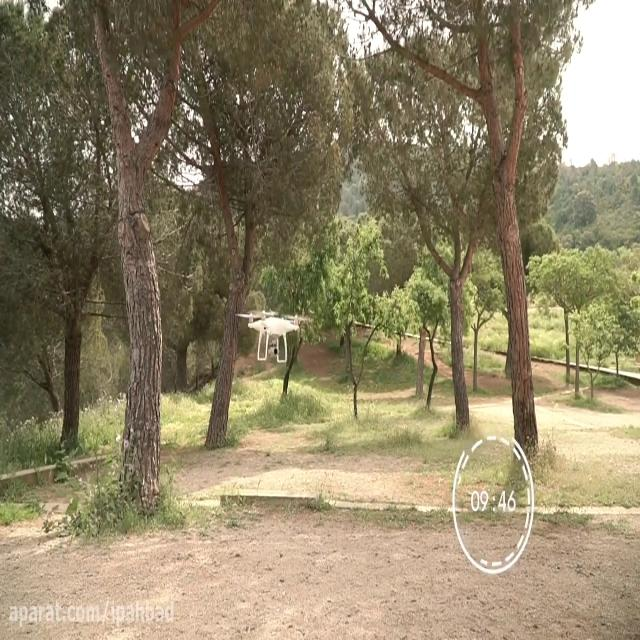drone: (233, 305, 313, 365)
